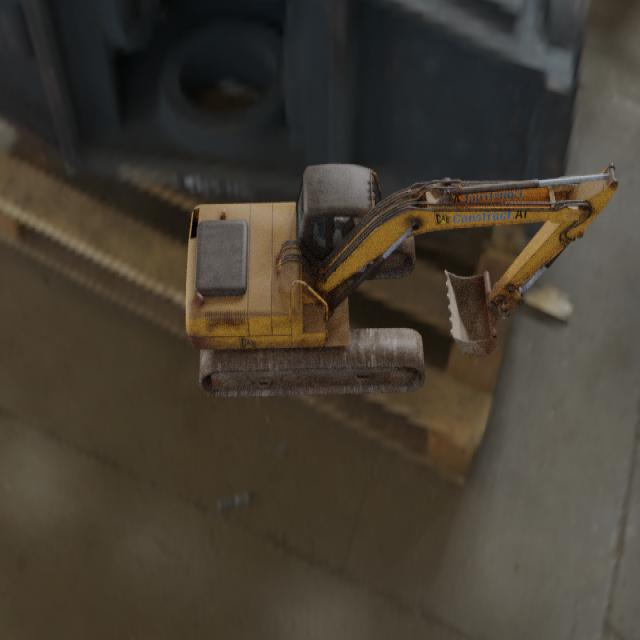excavator: (185, 162, 618, 398)
